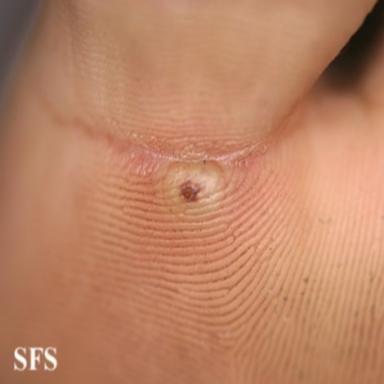Tungiasis: (162, 157, 226, 215)
